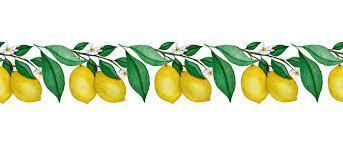lemon: (154, 65, 182, 104), (241, 65, 268, 104), (69, 65, 96, 104), (179, 70, 211, 102), (94, 71, 126, 103), (267, 70, 298, 102), (10, 71, 42, 102), (328, 64, 343, 102), (0, 65, 12, 104)
